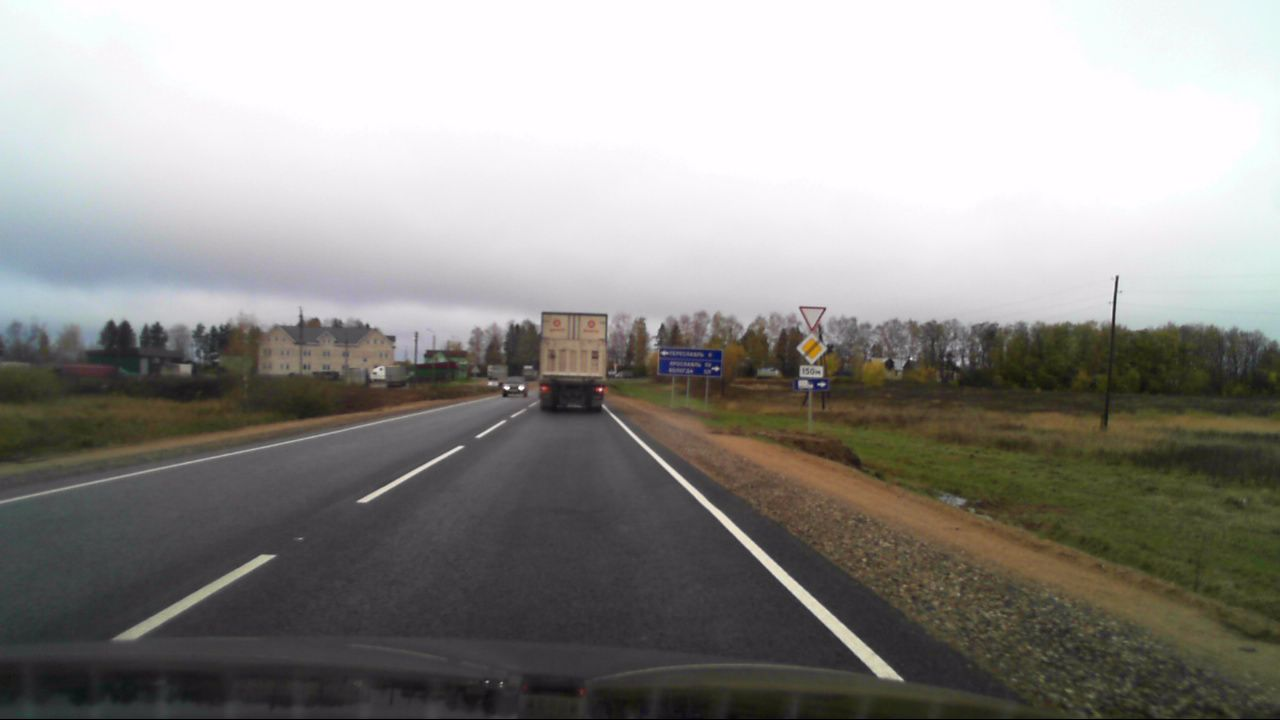main road: (794, 333, 828, 365)
